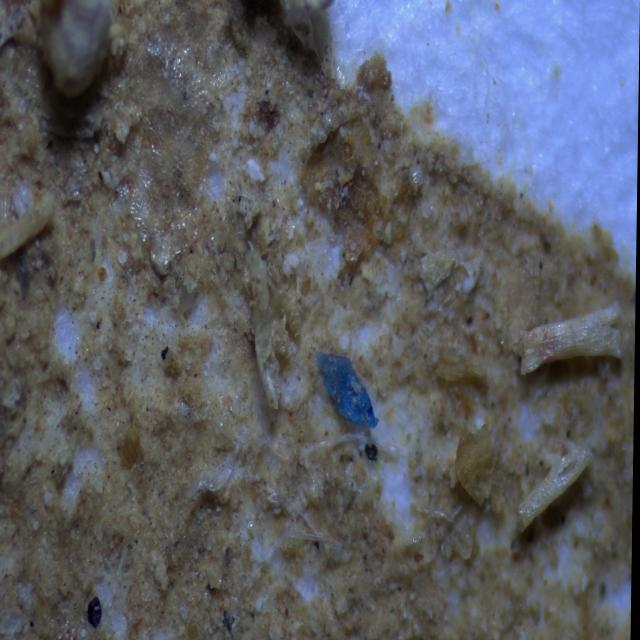microplastic: (290, 333, 400, 446)
